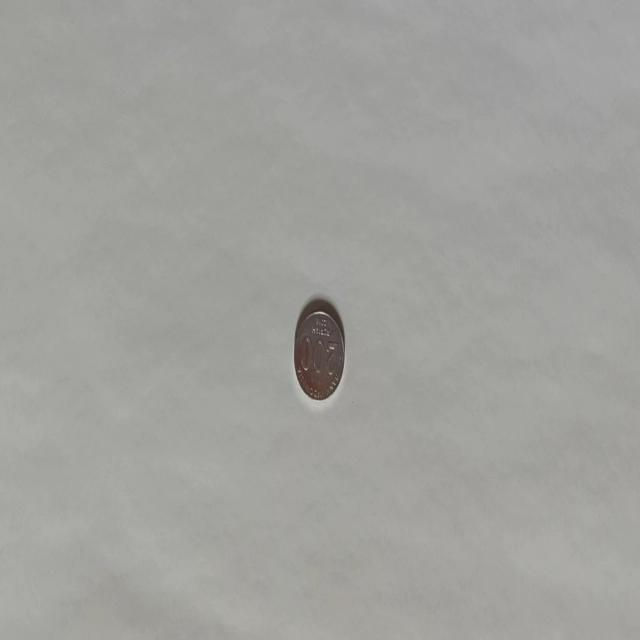dua ratus rupiah: (293, 306, 345, 402)
